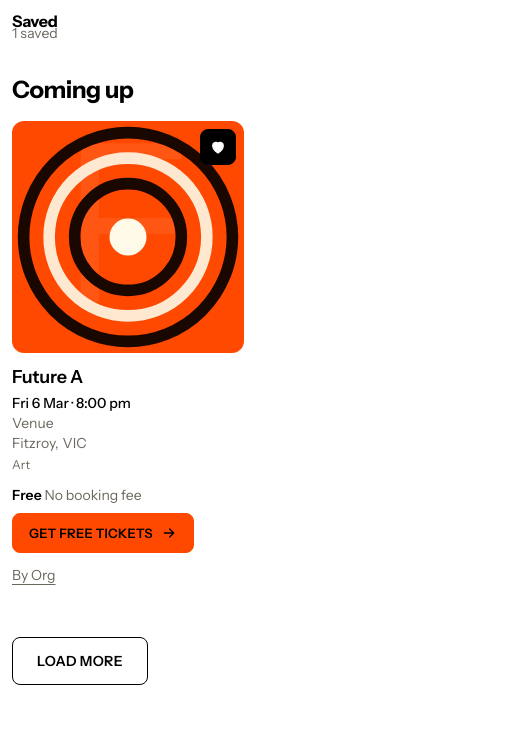
it: /saved — live › Load more appends the next page (48 at a time) and shows its own error
The width and height of the screenshot is (525, 742).
Click the button "Load more" at (80, 661), box [12, 637, 148, 685]
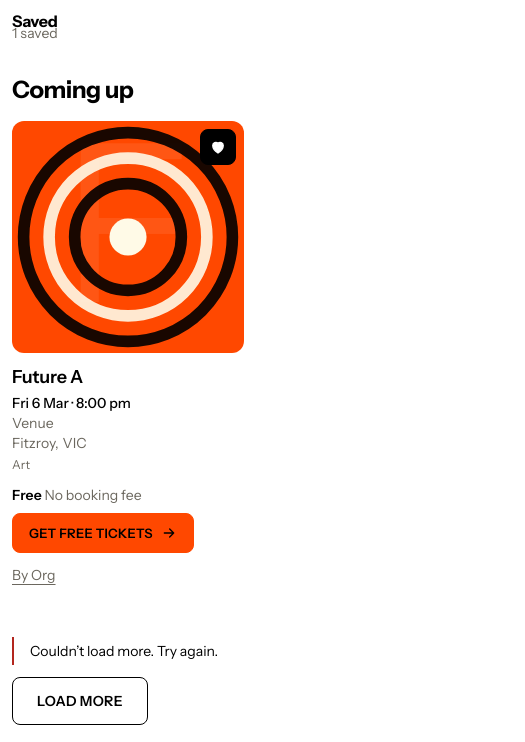
Result: the text "Couldn’t load more. Try again." is shown at [12, 637, 218, 665]
Click the button "Load more" at (80, 701), box [12, 677, 148, 725]
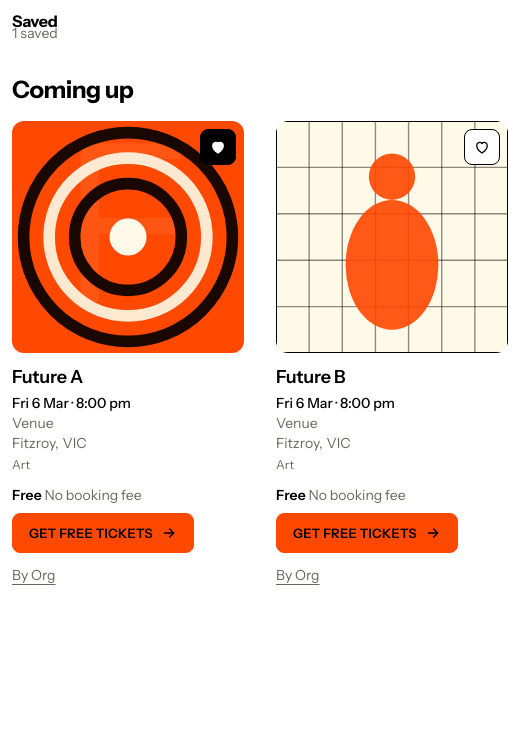
Result: the heading "Future B" is shown at [276, 366, 346, 388]
Result: the message "load more" is gone
